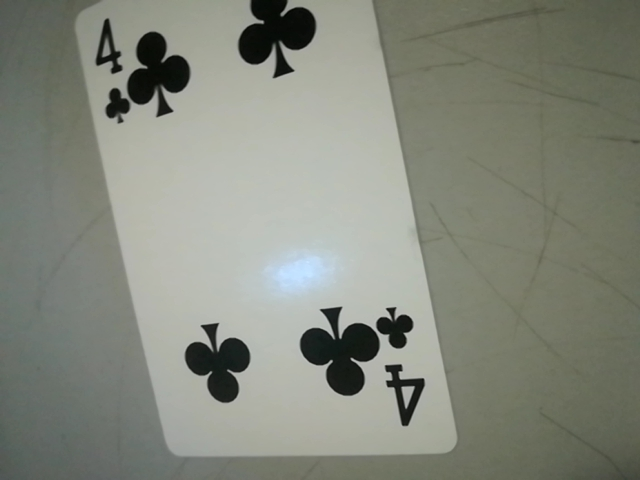mh 4: (369, 293, 439, 438)
